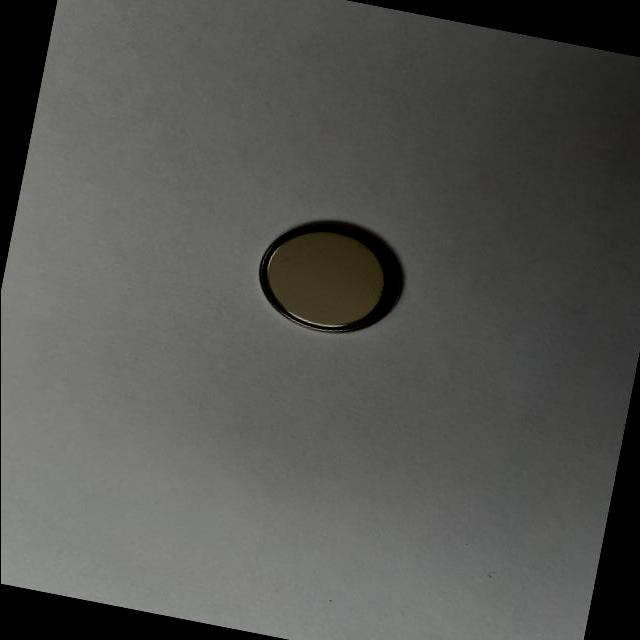COIN: (246, 209, 415, 348)
